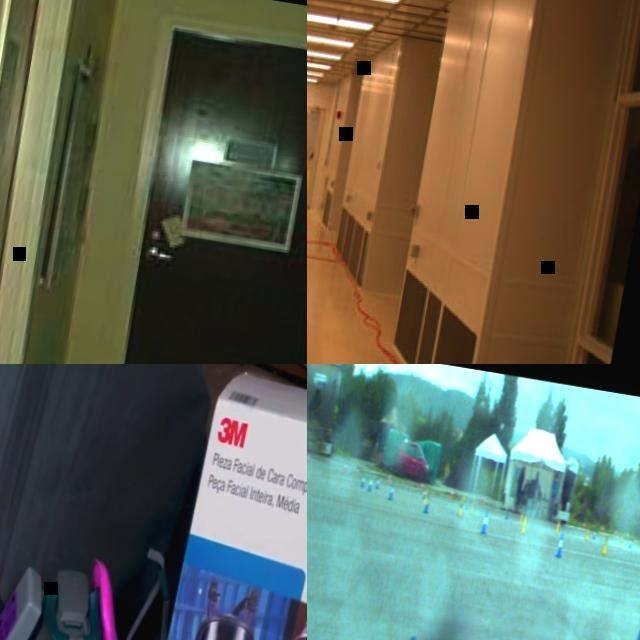Mask: (0, 537, 146, 640)
Safety Cone: (555, 531, 568, 558), (387, 477, 398, 501), (422, 491, 433, 514), (481, 509, 491, 534), (366, 471, 376, 492), (457, 493, 466, 516), (602, 534, 611, 555), (360, 470, 368, 490), (521, 515, 529, 534), (376, 474, 383, 489), (423, 488, 430, 503), (469, 498, 476, 512), (505, 506, 512, 520), (386, 471, 393, 484), (464, 496, 470, 511), (555, 519, 561, 534), (343, 459, 349, 473), (518, 511, 524, 525), (585, 527, 592, 539), (619, 535, 625, 548), (449, 488, 456, 499), (420, 479, 426, 491), (592, 528, 598, 540), (422, 486, 427, 499), (628, 536, 633, 548), (307, 450, 311, 464), (615, 526, 620, 535), (583, 520, 587, 529), (601, 525, 605, 533)
